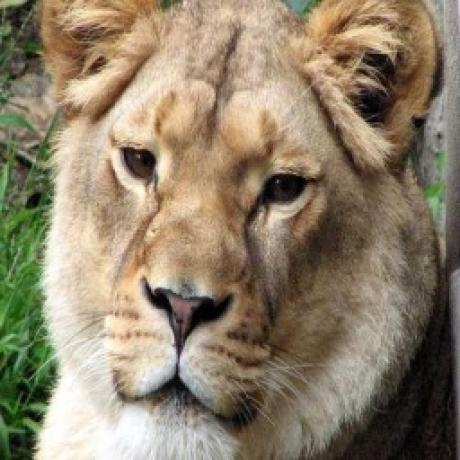Lion: (31, 0, 452, 460)
